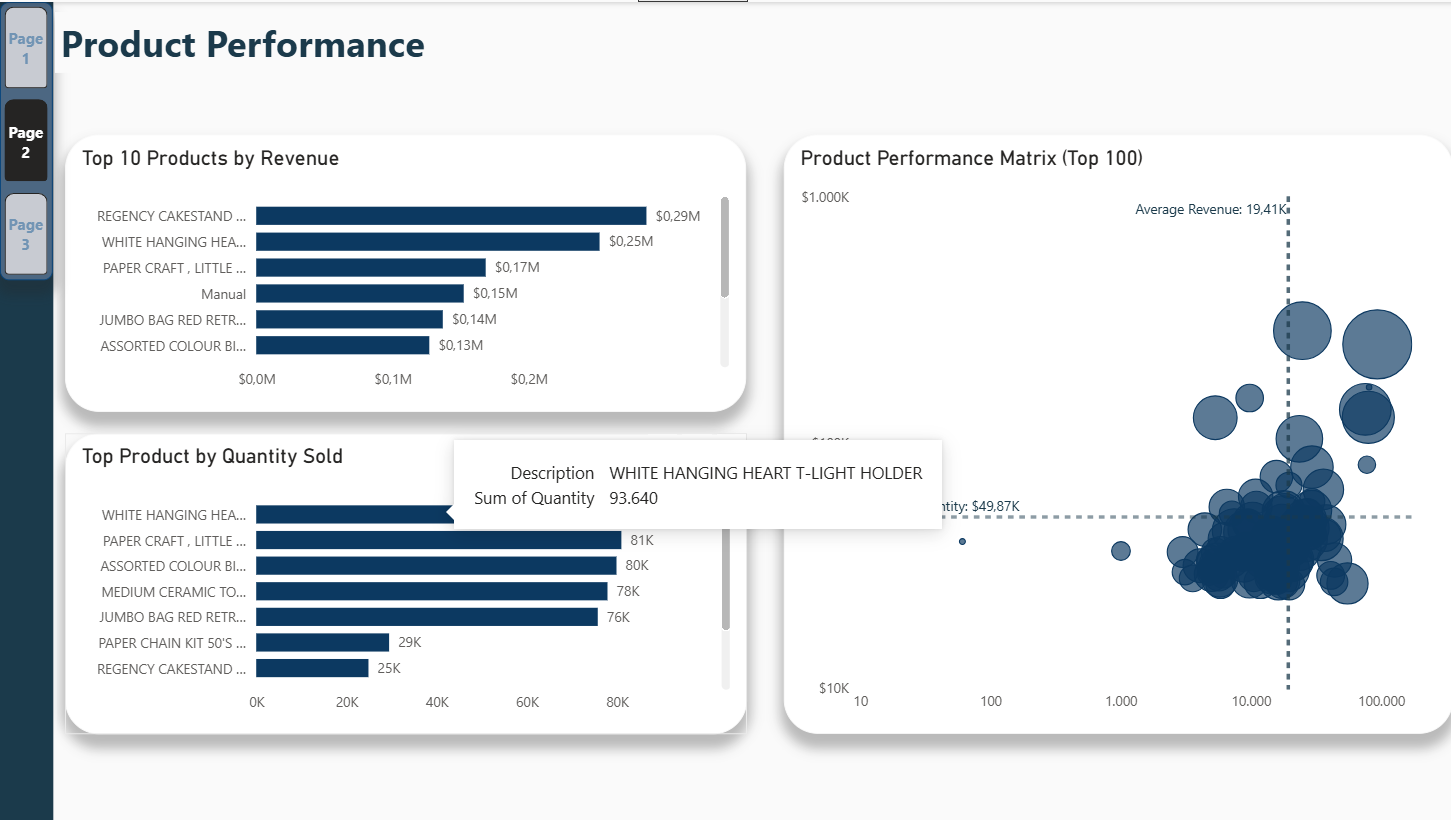

The page's visual inventory and layout, read from the dashboard file:
{"tool":"powerbi","page":{"name":"Page 2","canvas":[1280,720],"ordinal":1},"visuals":[{"type":"clusteredBarChart","title":"Top 10 Products by Revenue","fields":{"Category":["online_retail_cleaned.Description"],"Y":["online_retail_cleaned.Total Revenue"]},"box":[57.2,116.6,599.3,244.1],"z":0},{"type":"shape","box":[-0.7,0,48,720],"z":2000},{"type":"pageNavigator","box":[0,0,46.6,244.8],"z":3000},{"type":"scatterChart","title":"Product Performance Matrix (Top 100)","fields":{"Category":["online_retail_cleaned.Description"],"X":["Sum(online_retail_cleaned.Quantity)"],"Y":["online_retail_cleaned.Total Revenue"],"Size":["online_retail_cleaned.Total Orders"]},"box":[689.5,116,588.8,527.5],"z":4000},{"type":"clusteredBarChart","title":"Top Product by Quantity","fields":{"Category":["online_retail_cleaned.Description"],"Y":["Sum(online_retail_cleaned.Quantity)"]},"box":[57.2,379.4,600.4,265],"z":5000},{"type":"textbox","box":[48.4,8.8,270.5,53.9],"z":5001}]}

Visuals, with their boxes on the page's 1280x720 design canvas (x1, y1, x2, y2). These are canvas units, not pixel positions in the 1451x820 screenshot, which may show the page scaled, cropped or inside an application window:
"Top 10 Products by Revenue" clusteredBarChart: l=57, t=117, r=656, b=361
shape: l=-1, t=0, r=47, b=720
pageNavigator: l=0, t=0, r=47, b=245
"Product Performance Matrix (Top 100)" scatterChart: l=690, t=116, r=1278, b=644
"Top Product by Quantity" clusteredBarChart: l=57, t=379, r=658, b=644
textbox: l=48, t=9, r=319, b=63
